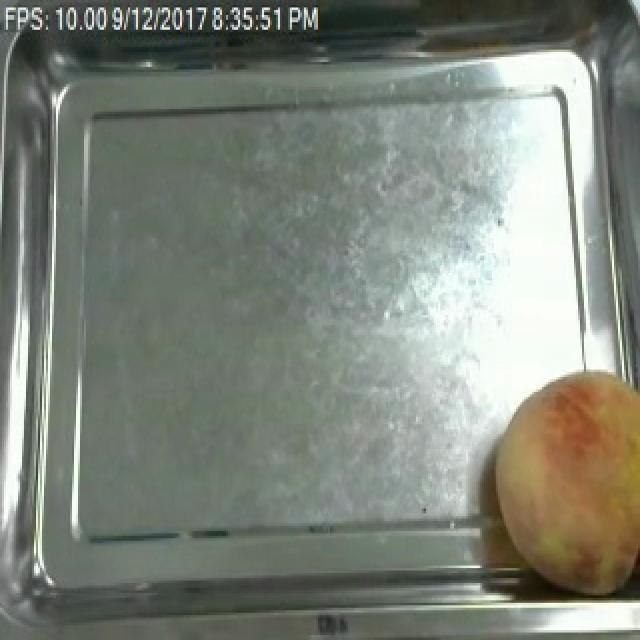Fruit: (486, 360, 640, 602)
